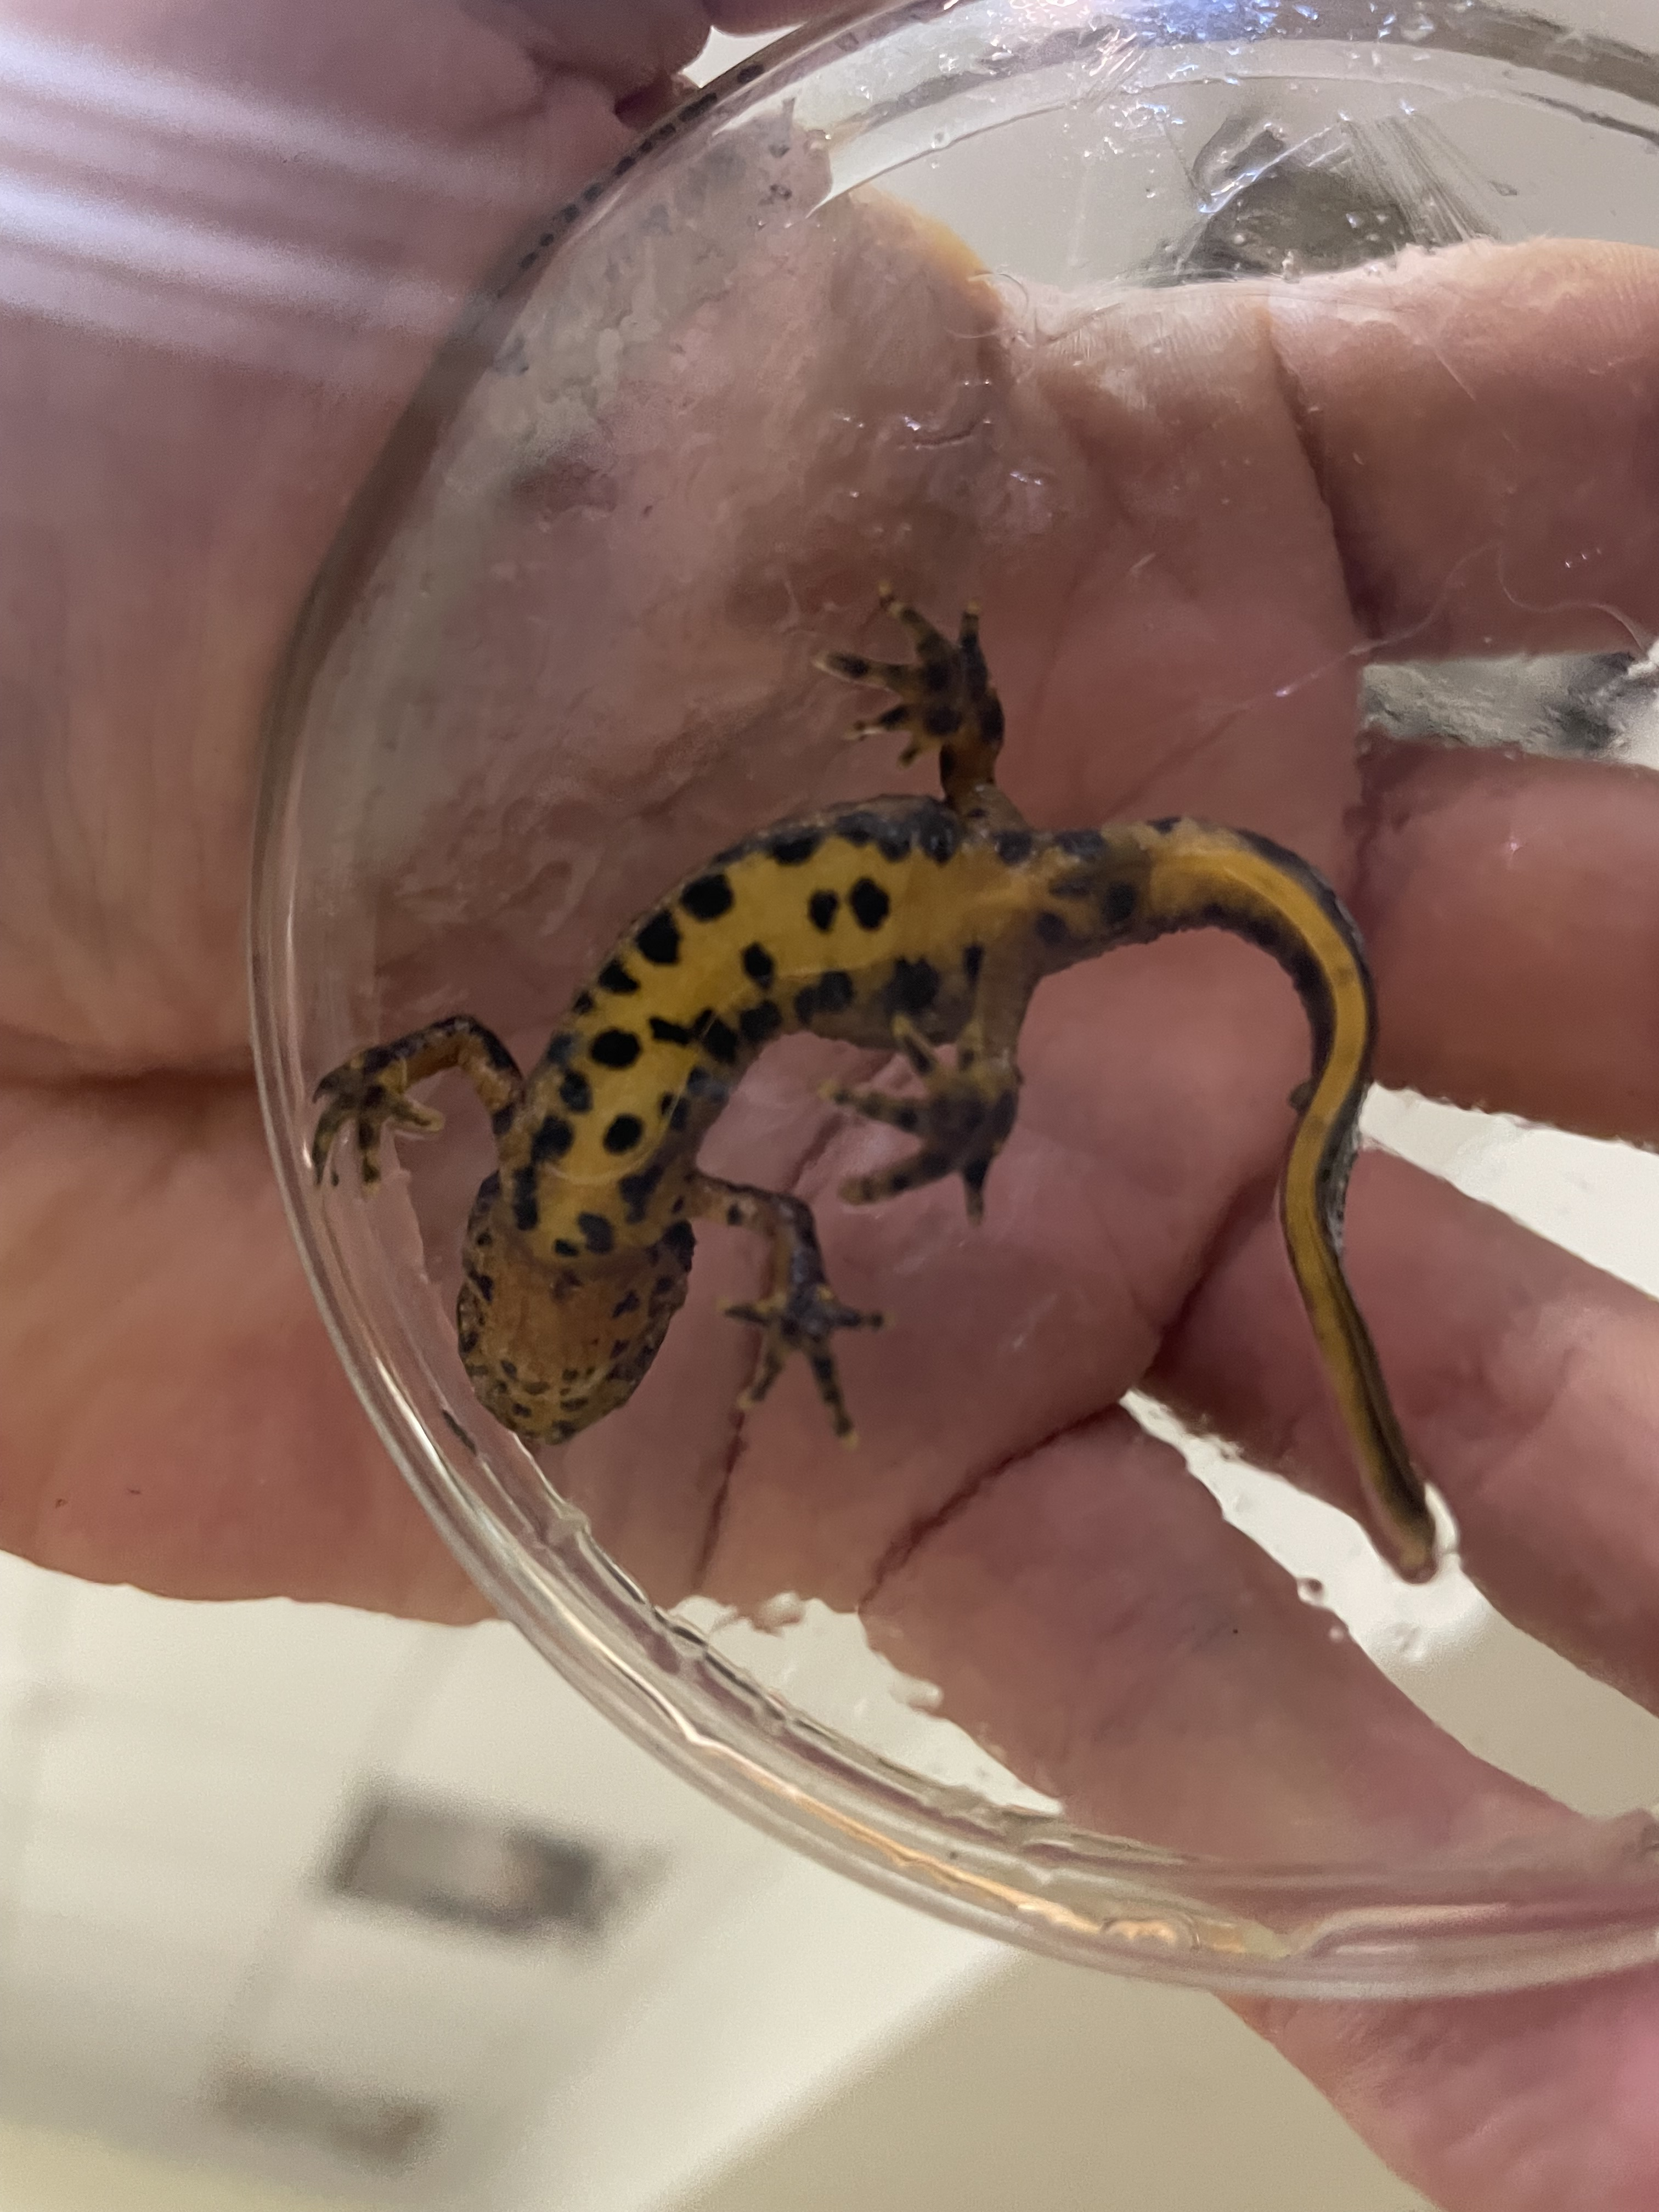Karelin_newt: (526, 796, 974, 1169)
